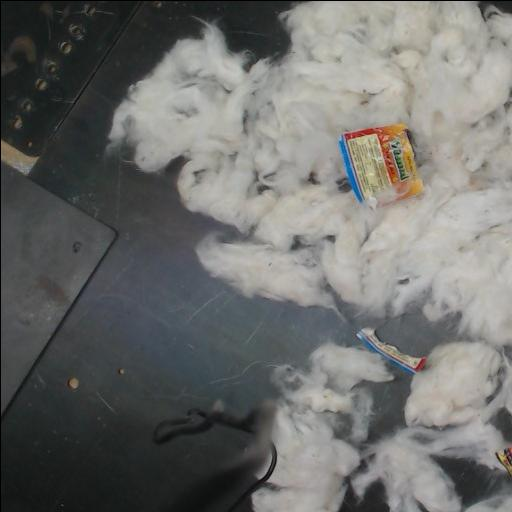conveyor belt: (1, 1, 355, 512), (438, 457, 512, 505), (378, 312, 456, 354), (370, 372, 409, 439), (341, 483, 386, 512), (494, 410, 512, 441)
cotton: (109, 1, 512, 512)
packet: (339, 124, 422, 208), (356, 328, 424, 372)
thread: (495, 445, 512, 477)
